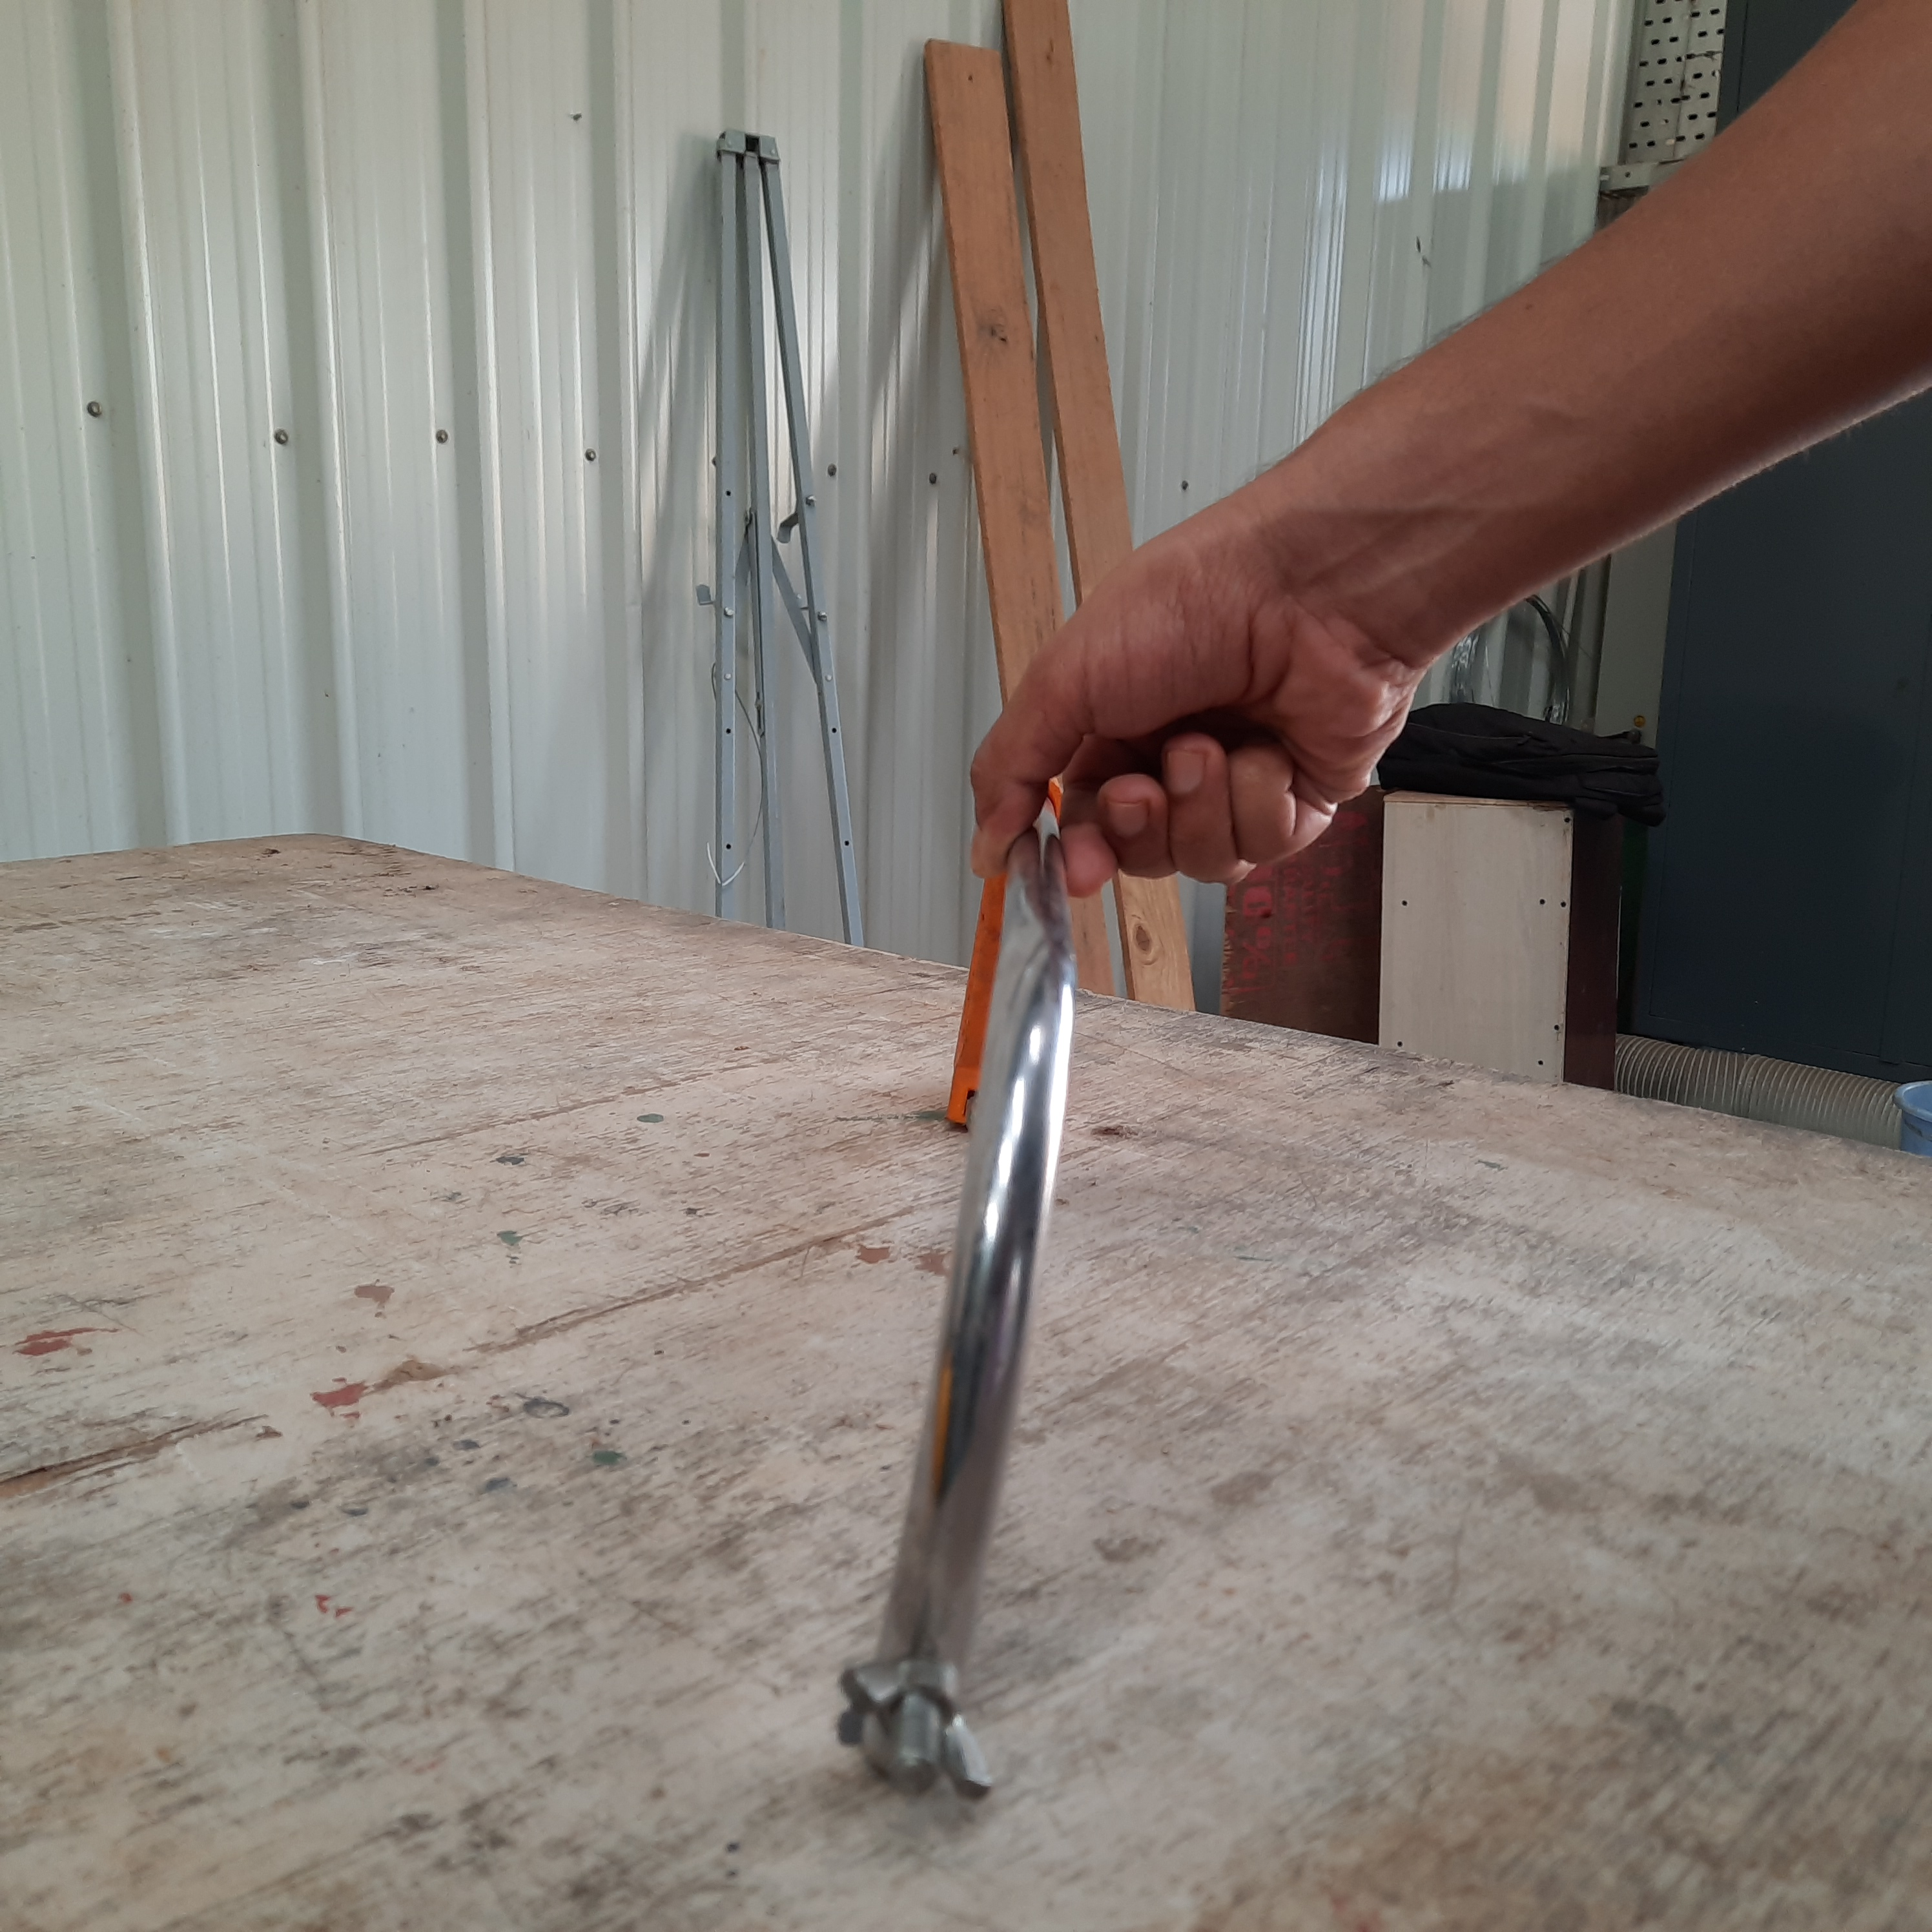Hexaframe: (823, 722, 1164, 1867)
